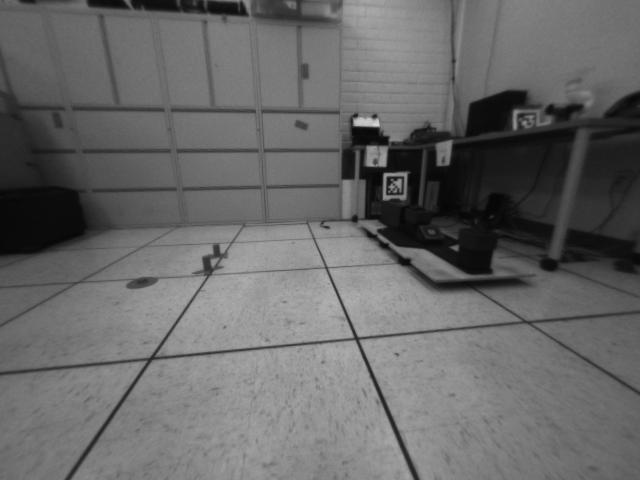X: (189, 259, 223, 276), (204, 243, 230, 258)
